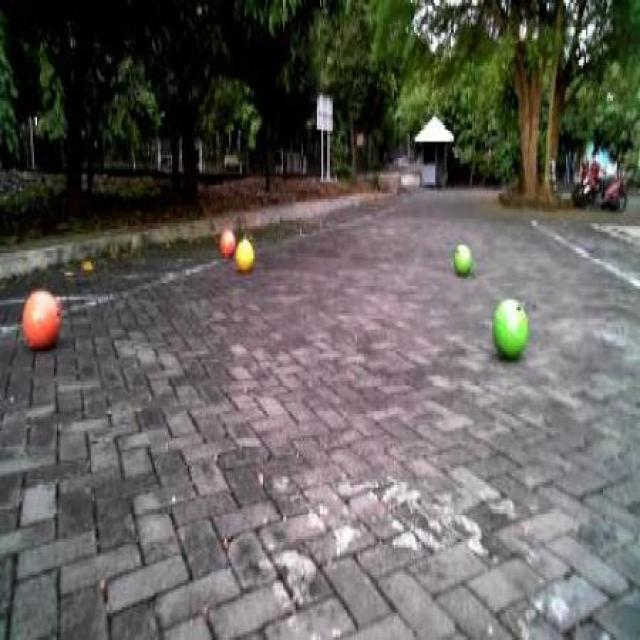buoy: (15, 274, 67, 360), (485, 286, 533, 360), (446, 229, 476, 286), (230, 228, 259, 281), (212, 216, 240, 266)
